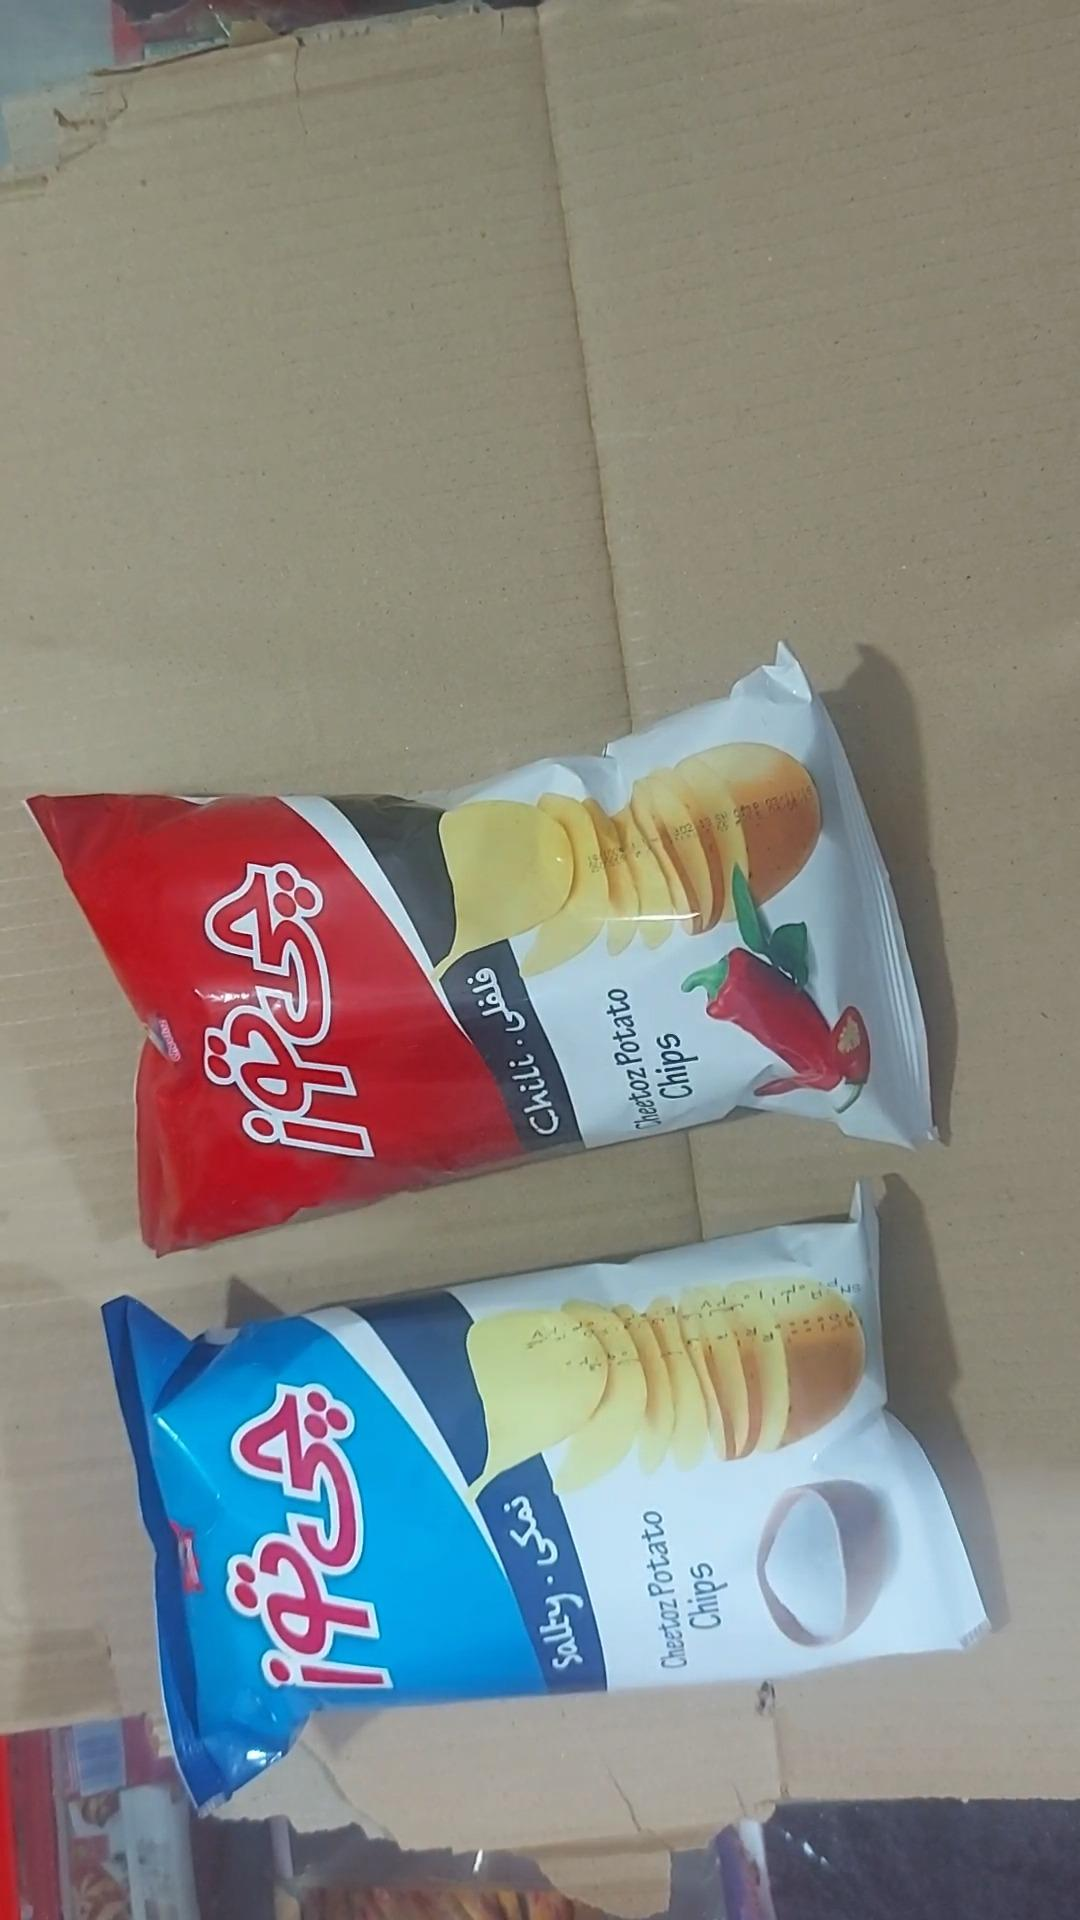Cheetoz chili chips: (26, 644, 935, 1261)
Cheetoz salty chips: (102, 1185, 990, 1817)
